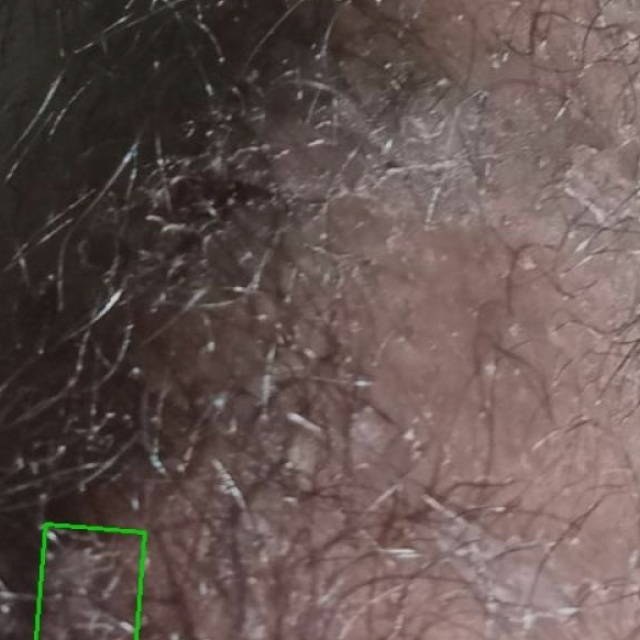Eczema: (35, 523, 144, 639)
